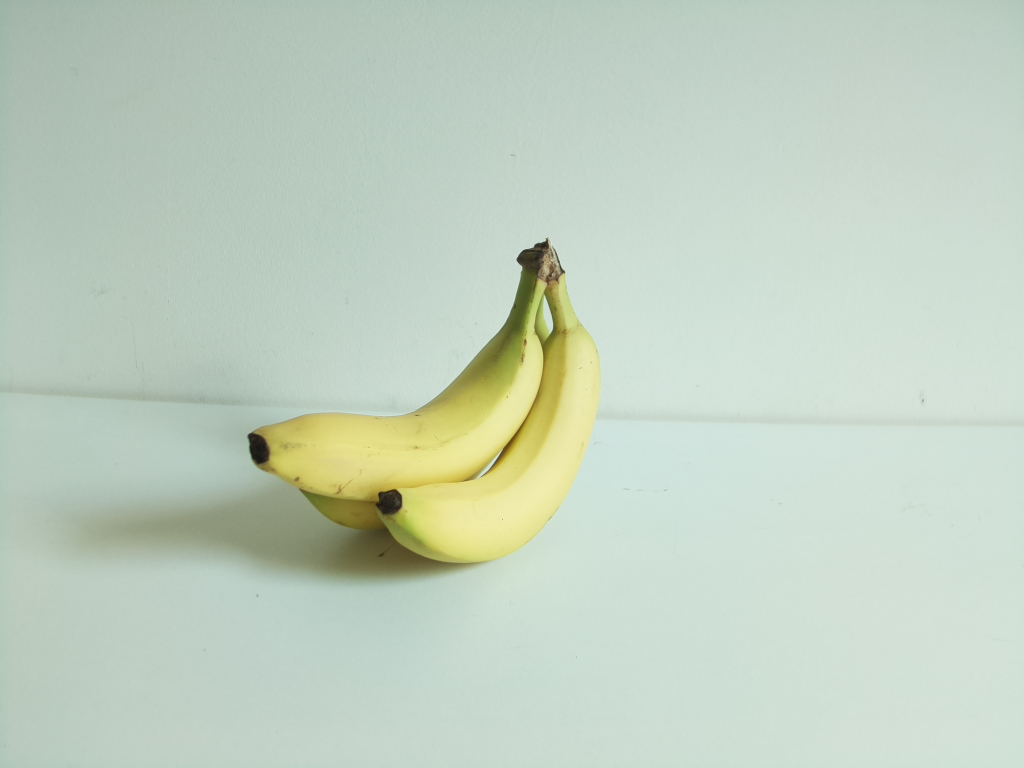banana: (249, 238, 554, 505), (375, 252, 601, 566), (301, 249, 549, 531)
